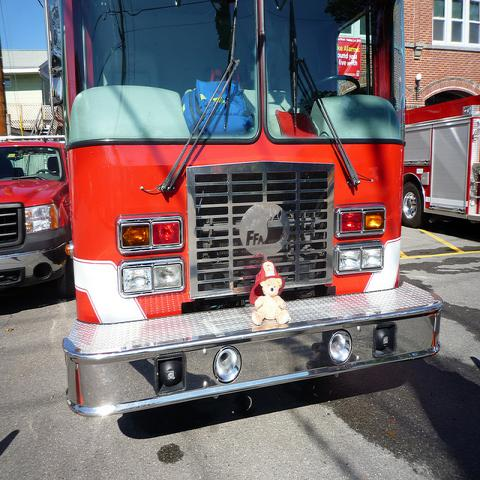truck: (57, 3, 446, 425), (0, 136, 72, 296), (404, 96, 478, 219)
